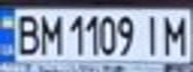0: (100, 12, 118, 56)
1: (63, 11, 84, 56), (81, 11, 100, 56)
9: (115, 11, 139, 56)
B: (9, 11, 42, 56)
I: (139, 11, 166, 56)
M: (157, 10, 193, 56), (36, 11, 63, 56)
